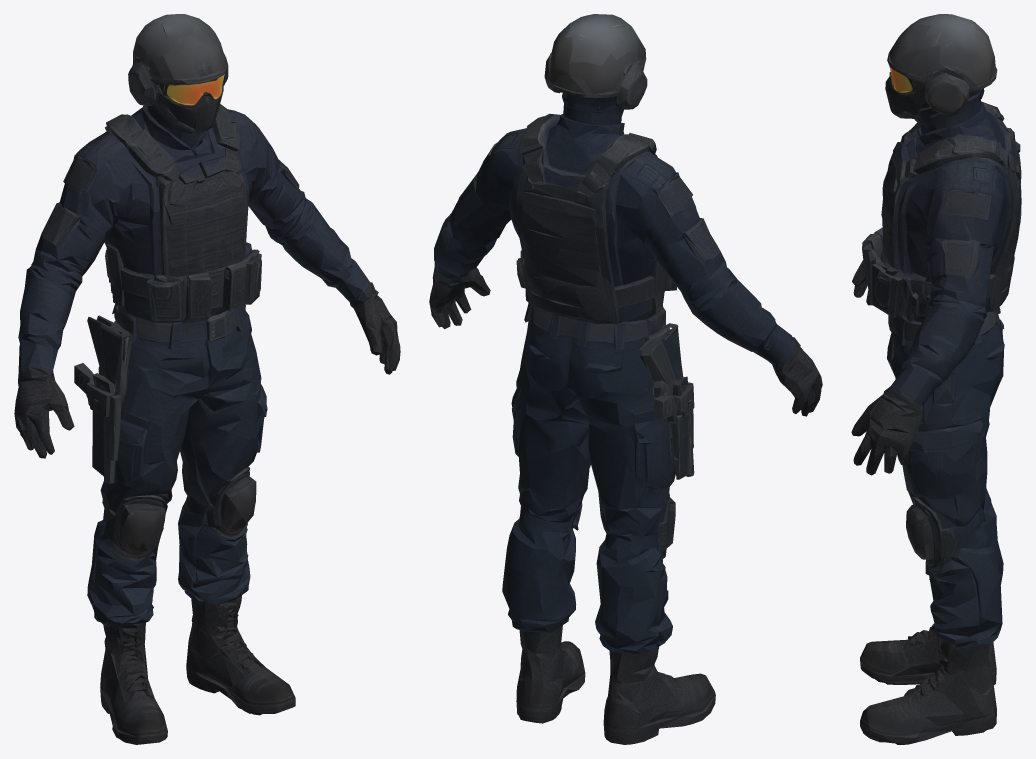
3 views of the same model, side by side, from view 1: azimuth 30°, elevation 25°; view 2: azimuth 150°, elevation 25°; view 3: azimuth 270°, elevation 25° (orthographic).
Size of the model in its own units: 1.08 by 1.9 by 0.4268.
Materials: 1 (1 with a texture image).
